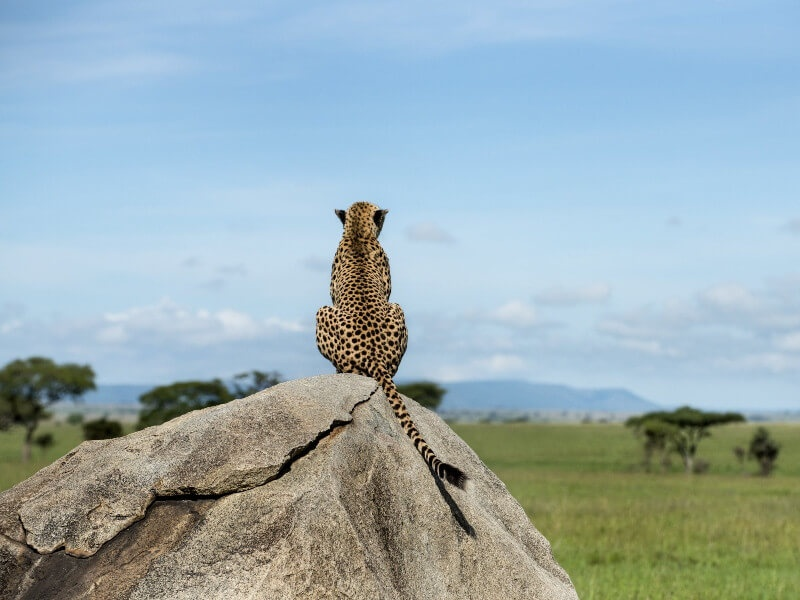leopard: (312, 194, 474, 489)
